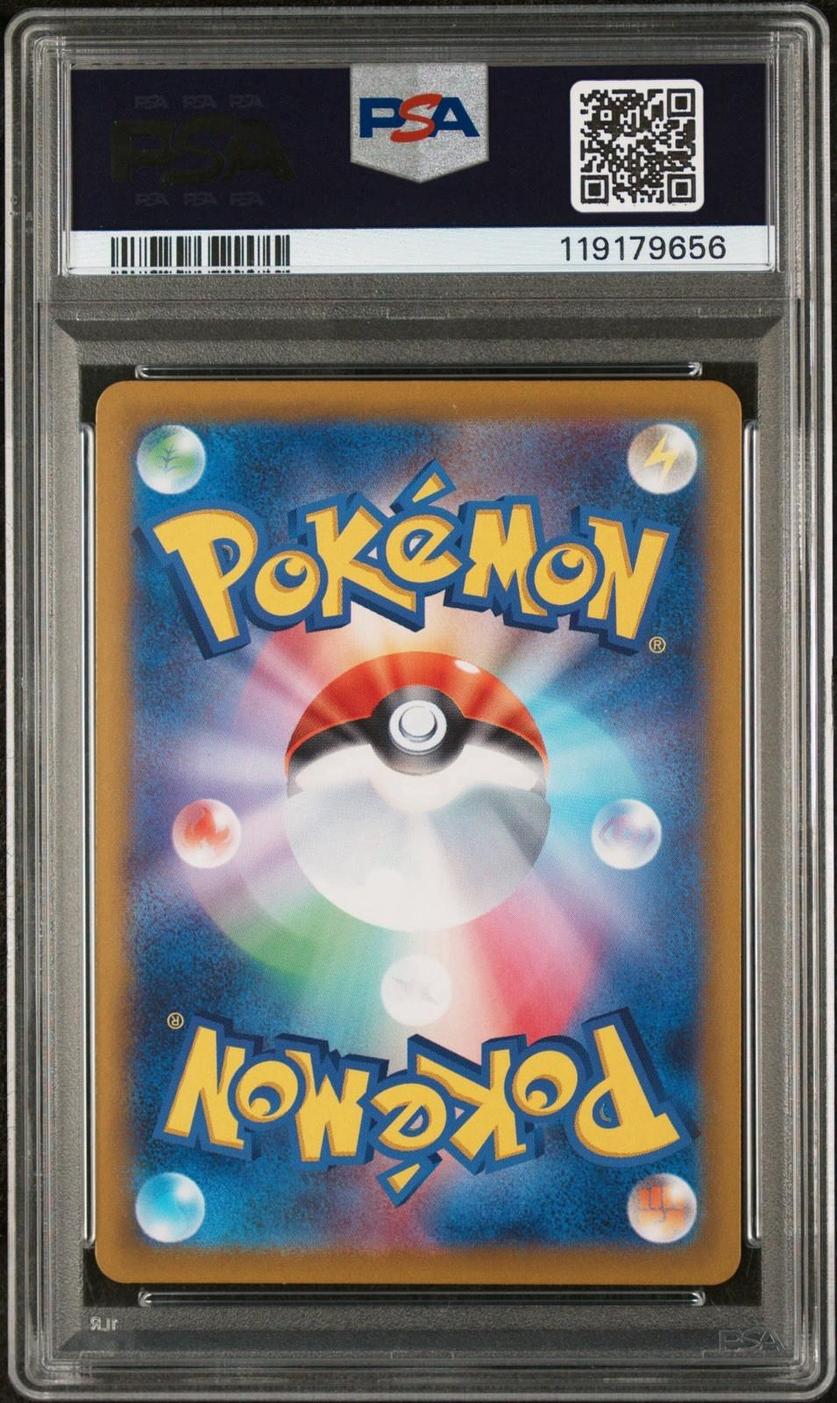card-2UtV: (94, 379, 743, 1286)
